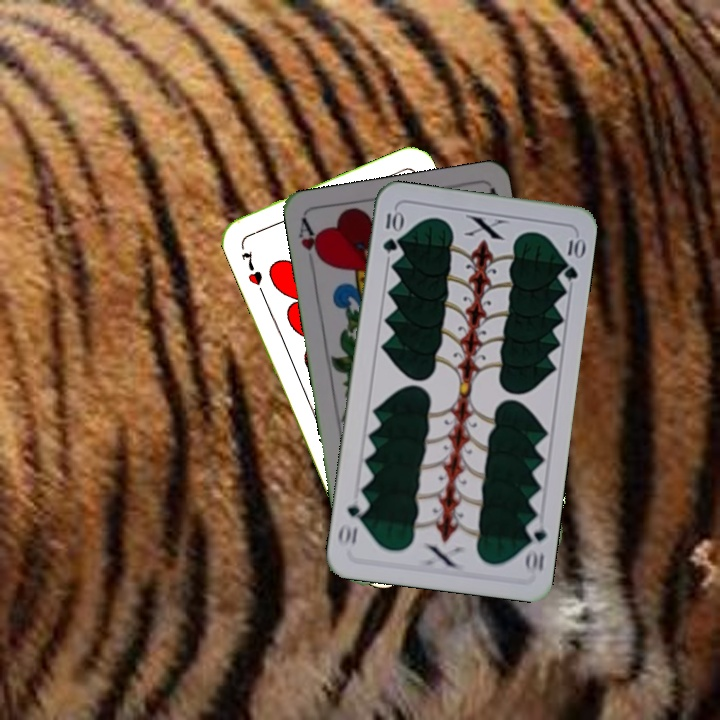G10: (520, 516, 549, 576), (379, 206, 403, 255)
H7: (237, 247, 265, 288)
HA: (294, 215, 326, 266)
